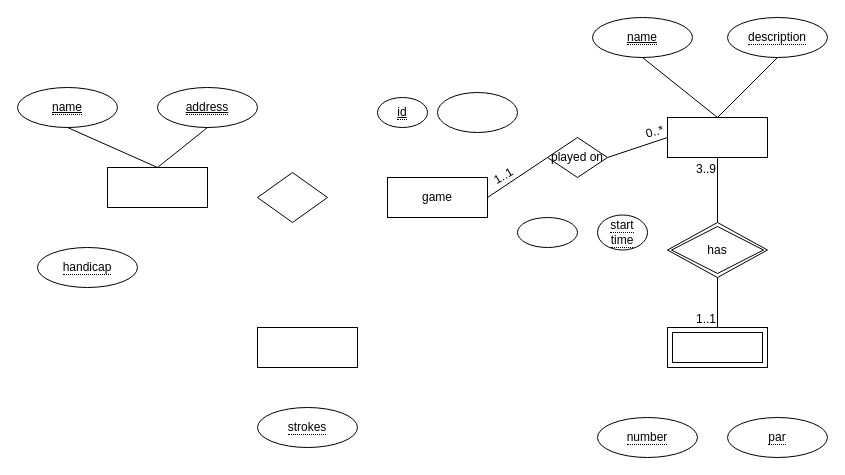
Some shapes in this 845 by 475 pixel diagram are drawn without their labels. The centre of each missing label's shape, as x and y in pixels:
"comments" goes at [477,112].
"course" goes at [717,137].
"date" goes at [547,232].
"golfer" goes at [157,187].
"hole" goes at [717,347].
"played by" goes at [292,197].
"score" goes at [307,347].
